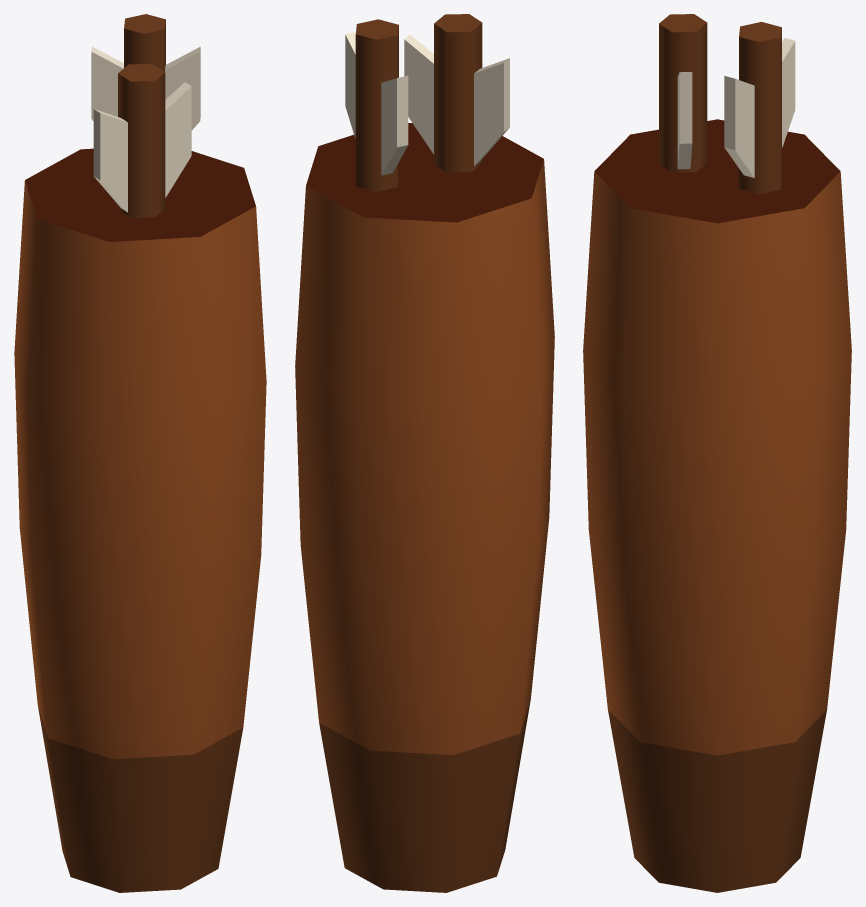
The model's file is CuteFantasy_quiver.fbx.
3 views of the same model, side by side, from view 1: azimuth 30°, elevation 25°; view 2: azimuth 150°, elevation 25°; view 3: azimuth 270°, elevation 25° (orthographic). The views are drawn at different scales.
Visible parts, largest first — view 1: CuteFantasy_quiver; view 2: CuteFantasy_quiver; view 3: CuteFantasy_quiver.
Boxes of the visible parts, x1,y1,x2,y2 form: CuteFantasy_quiver: (14,14,266,892); CuteFantasy_quiver: (295,14,554,892); CuteFantasy_quiver: (583,14,851,892).
Bounding box in the file's own units: 0.2489 × 0.8568 × 0.2489.
